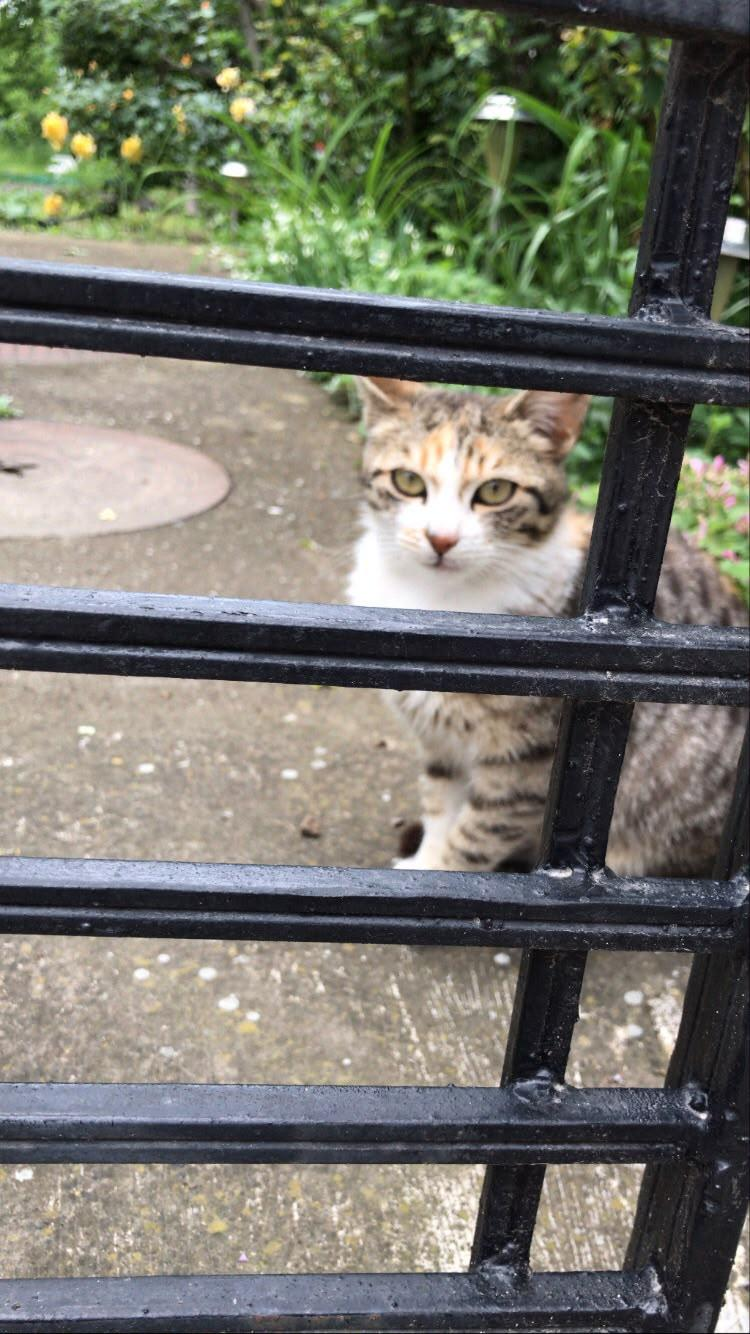macka: (349, 364, 749, 878)
